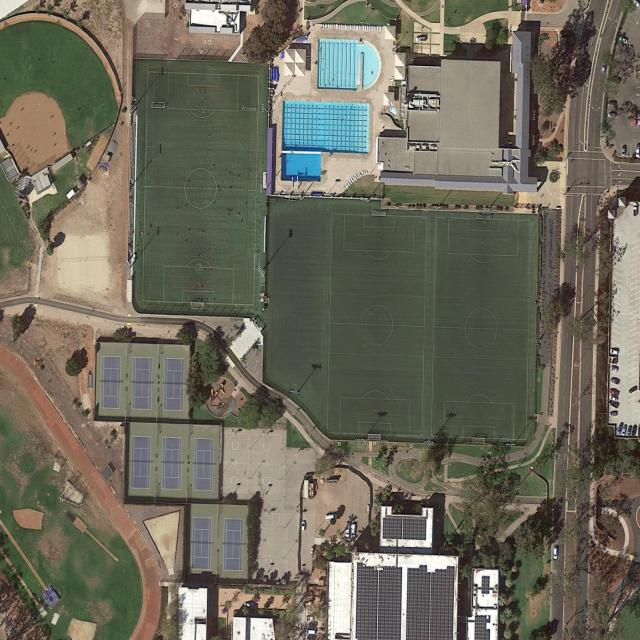small-vehicle: (609, 398, 619, 409), (609, 387, 620, 397), (616, 422, 624, 435), (325, 513, 337, 521), (628, 385, 638, 394), (626, 425, 633, 437), (611, 377, 620, 386), (621, 424, 628, 435), (631, 426, 637, 438), (619, 36, 628, 44), (416, 36, 428, 42), (552, 548, 558, 560), (609, 394, 618, 402), (610, 365, 619, 373), (351, 523, 356, 537), (345, 523, 350, 537), (601, 62, 607, 73), (621, 145, 627, 156), (633, 203, 638, 216), (306, 629, 316, 635), (609, 348, 617, 355), (301, 521, 305, 533), (609, 412, 618, 417), (609, 113, 617, 118), (609, 101, 617, 106), (634, 116, 637, 126)
